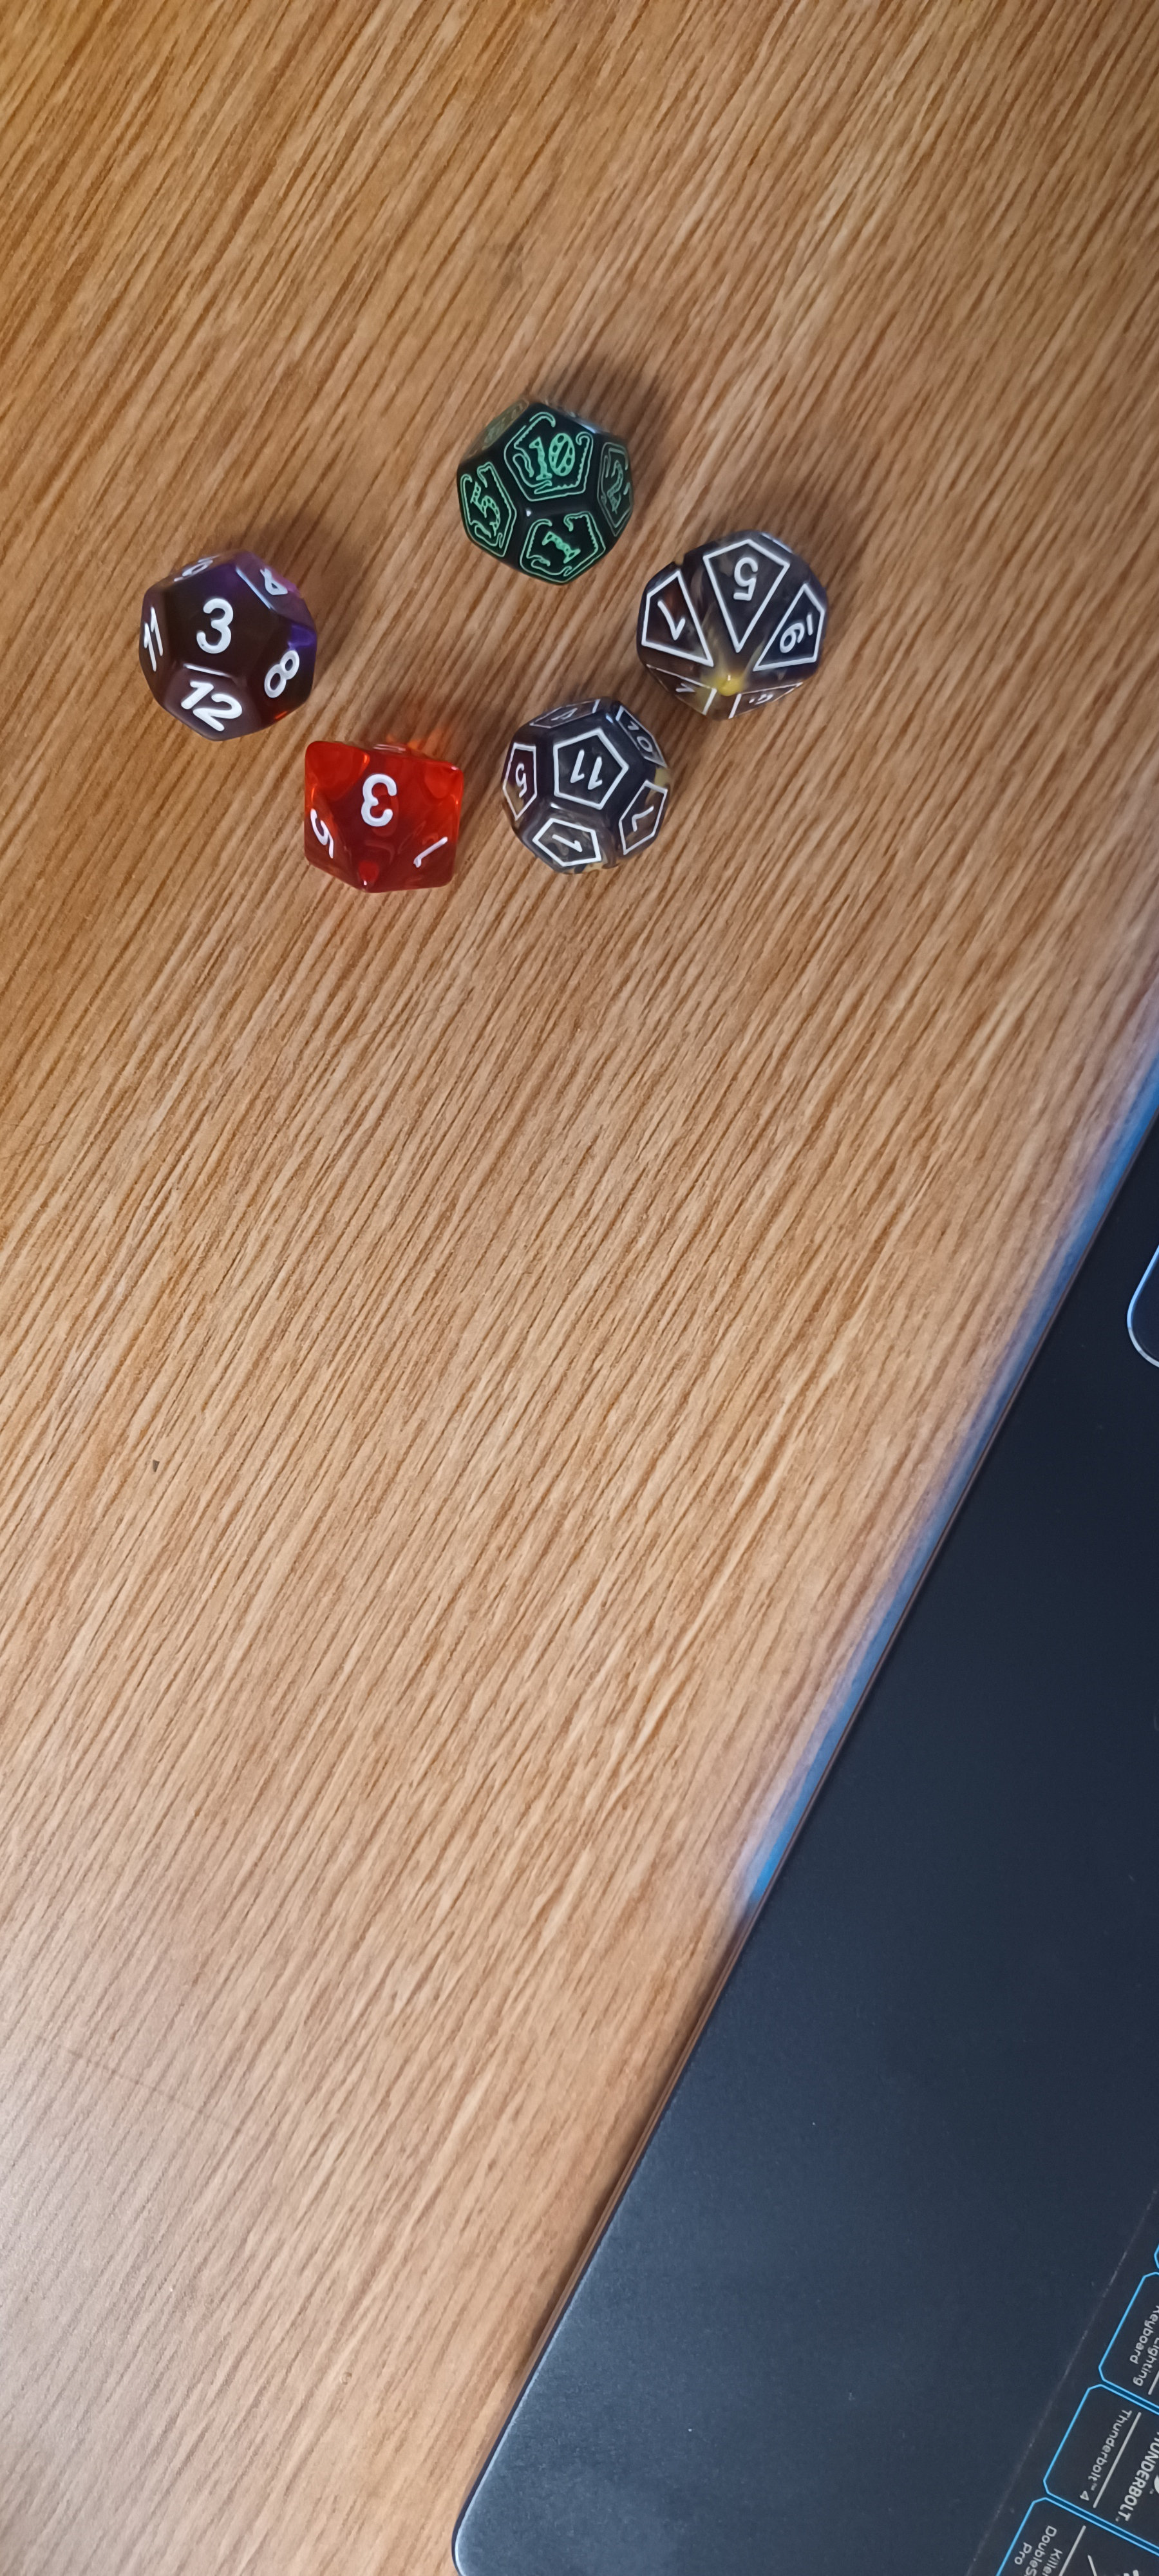eleven: (479, 669, 689, 895)
five: (625, 522, 857, 721)
ten: (424, 375, 665, 588)
three: (135, 537, 325, 744), (292, 724, 488, 915)
